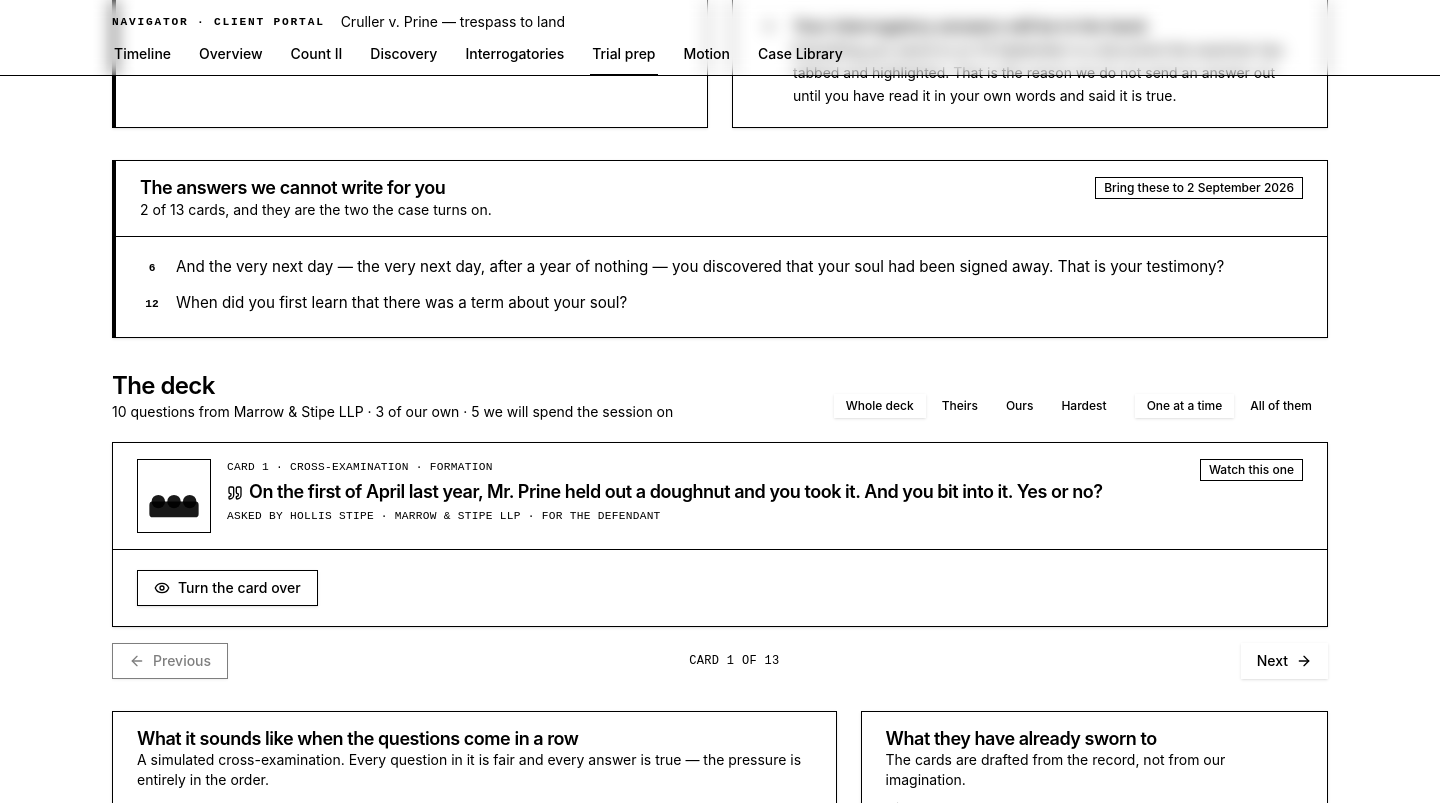
Test: the trial preparation page › narrows the deck to the questions the other side is asking
This screenshot has width=1440, height=803.
(page scrolled)
Click the radio button labelled "Theirs": (960, 406) [930,394,990,418]
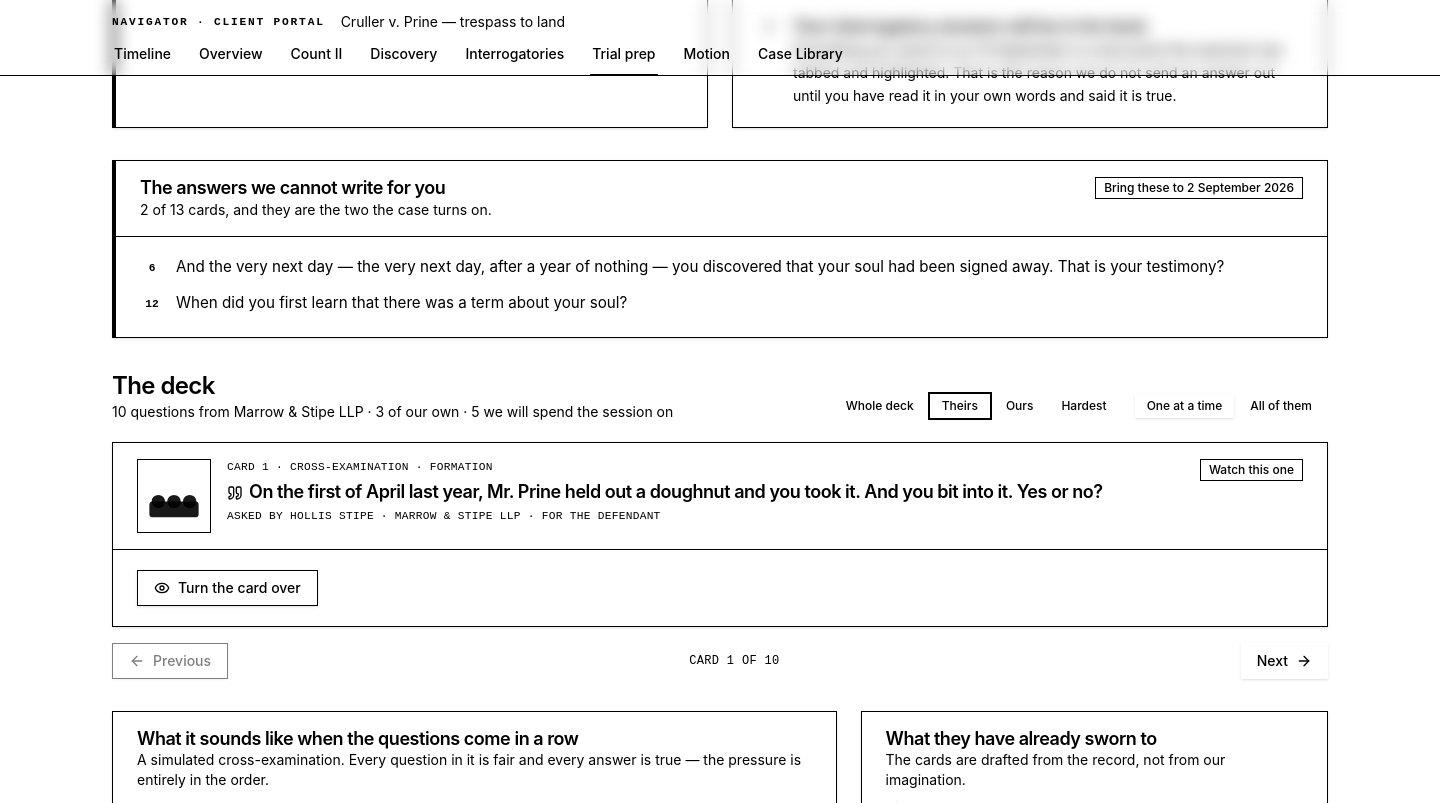
Click the radio button labelled "All of them": (1281, 406) [1238,394,1324,418]
(page scrolled)
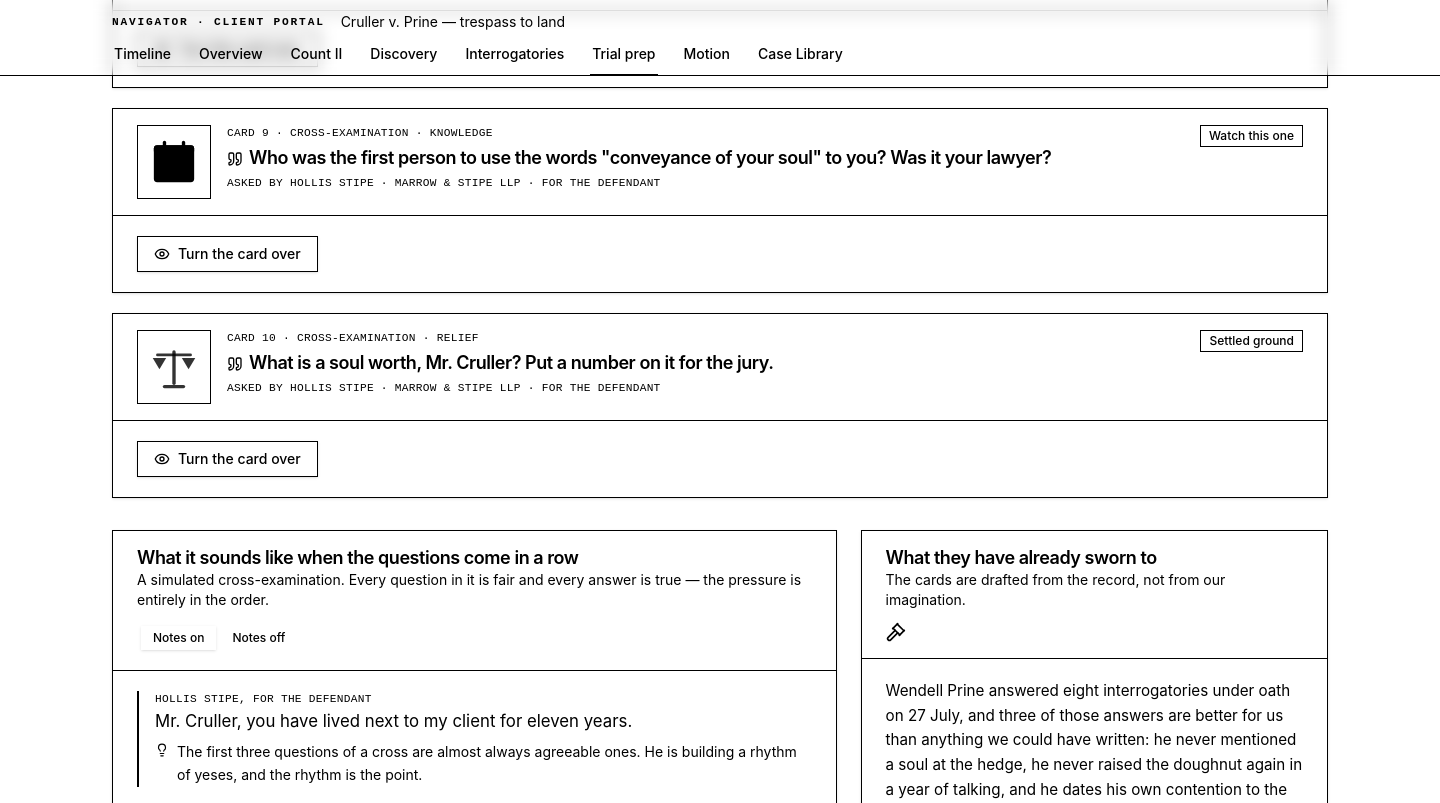
Expected: the element "Who was the first person to us" is shown, [112,108,1328,294]
Expected: the element "What is a soul worth, Mr. Crul" is shown, [112,314,1328,498]
